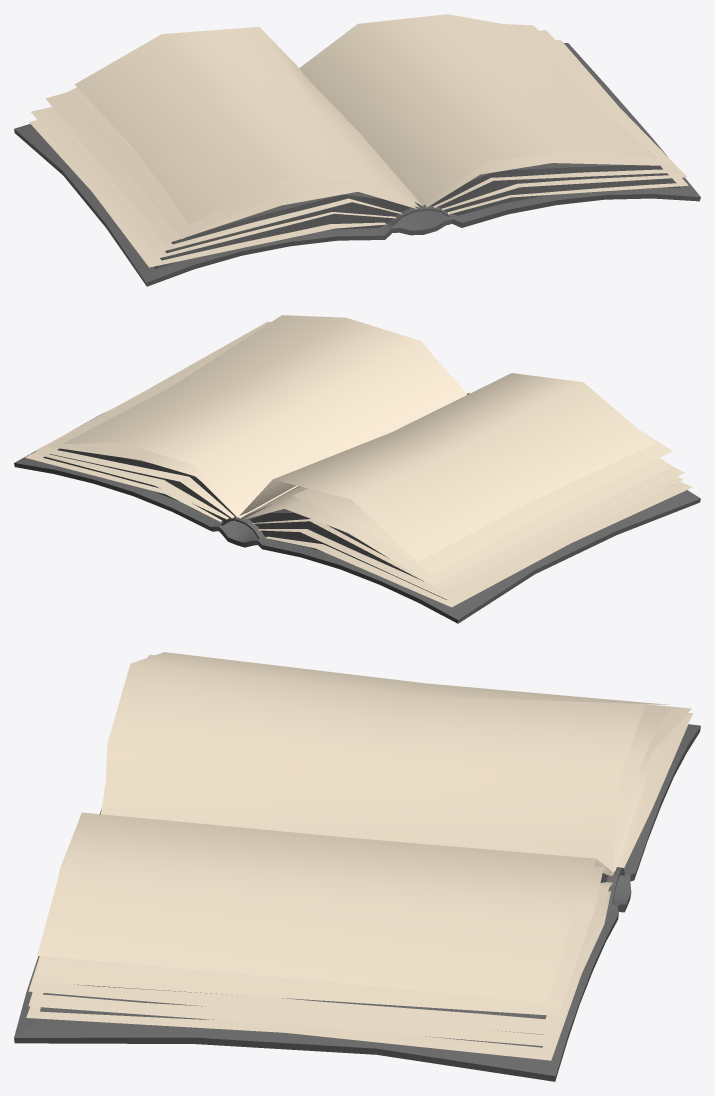
File: open_book.fbx
3 renders of one model, top to bottom at view 1: azimuth 30°, elevation 25°; view 2: azimuth 150°, elevation 25°; view 3: azimuth 270°, elevation 25°, orthographic. The views are drawn at different scales.
Visible parts, largest first — view 1: openBookPaper, book_Op_Opt; view 2: openBookPaper, book_Op_Opt; view 3: openBookPaper, book_Op_Opt.
Part boxes in pixels (x1=…): openBookPaper: x1=29, y1=14, x2=688, y2=267; book_Op_Opt: x1=14, y1=43, x2=700, y2=286; openBookPaper: x1=25, y1=315, x2=692, y2=607; book_Op_Opt: x1=14, y1=393, x2=700, y2=623; openBookPaper: x1=26, y1=652, x2=693, y2=1060; book_Op_Opt: x1=14, y1=724, x2=700, y2=1081.
Bounding box in the file's own units: 45.82 × 6.53 × 34.04.
